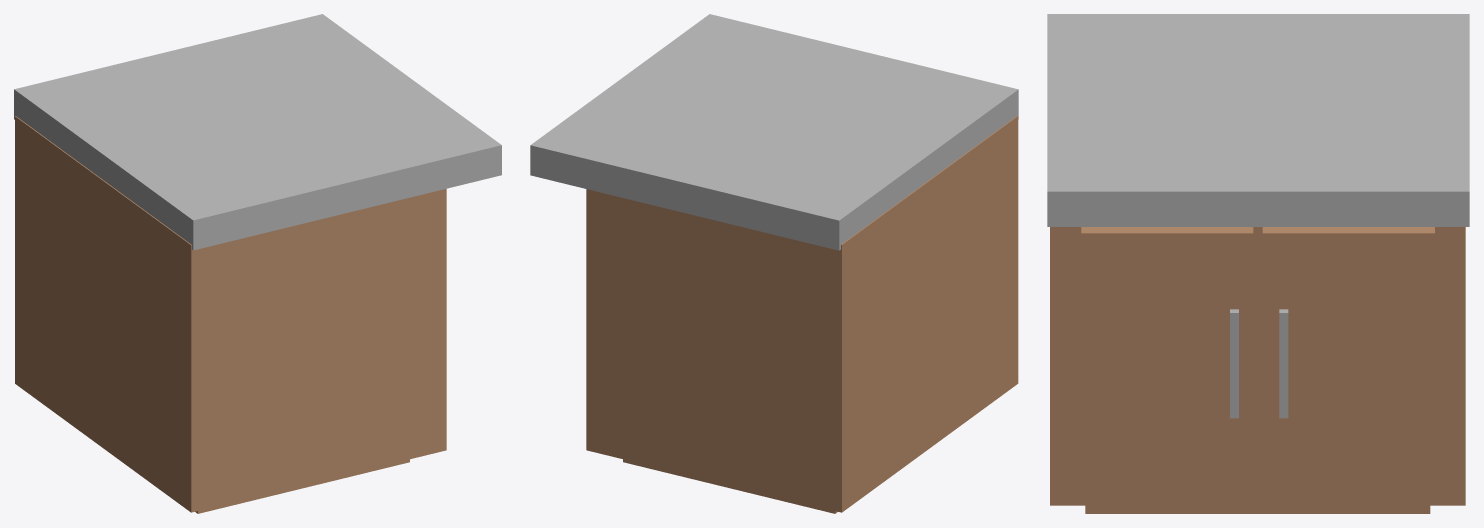
The model's file is counter.fbx.
3 renders of one model, left to right at view 1: azimuth 30°, elevation 25°; view 2: azimuth 150°, elevation 25°; view 3: azimuth 270°, elevation 25°, orthographic. The views are drawn at different scales.
Parts seen in each view (by area): view 1: Counter, Countertop; view 2: Counter, Countertop; view 3: Countertop, Drawerr, Drawer, Counter, handle, handle.001.
Boxes of the visible parts, <box> form: Counter: <box>15,116,446,513</box>; Countertop: <box>14,14,501,250</box>; Counter: <box>586,115,1018,513</box>; Countertop: <box>530,14,1018,250</box>; Countertop: <box>1047,14,1469,226</box>; Drawerr: <box>1262,227,1434,470</box>; Drawer: <box>1081,227,1253,470</box>; Counter: <box>1050,227,1465,513</box>; handle: <box>1279,309,1288,418</box>; handle.001: <box>1230,309,1238,418</box>.
Bounding box in the file's own units: 242 × 232 × 243.
